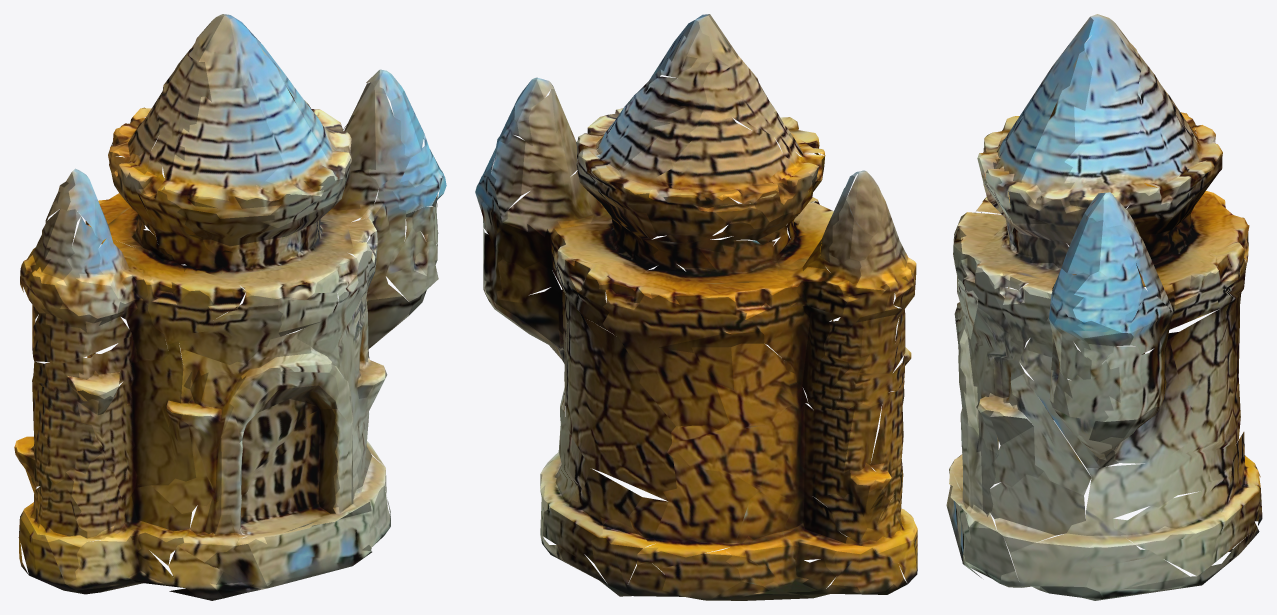
Rendered from castle2.min.glb.
3 renders of one model, left to right at view 1: azimuth 30°, elevation 25°; view 2: azimuth 150°, elevation 25°; view 3: azimuth 270°, elevation 25°, orthographic.
Visible parts, largest first — view 1: Mesh_0.009; view 2: Mesh_0.009; view 3: Mesh_0.009.
Boxes of the visible parts, <box> form: Mesh_0.009: <box>14,14,446,600</box>; Mesh_0.009: <box>475,14,917,600</box>; Mesh_0.009: <box>946,14,1262,600</box>.
Size of the model in its own units: 0.0399 by 0.0485 by 0.0263.
1 material, 1 textured.
